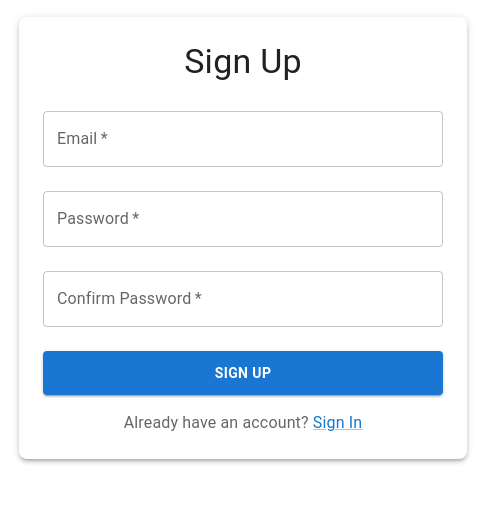
Authentication Flow › Sign Up › should show an error for mismatched passwords
Type "test.user@reqres.in" into the field labelled "Email *" at x=243, y=139, box [43,111,443,167]
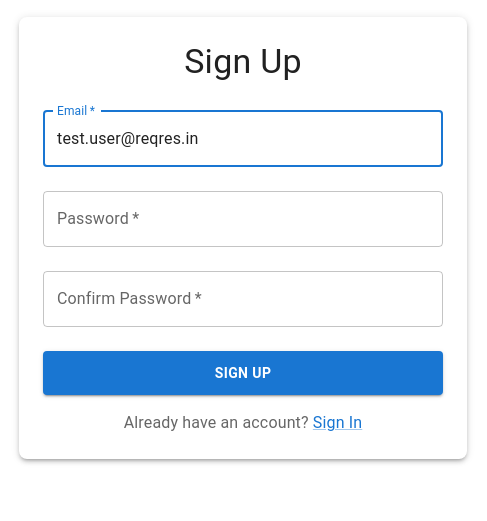
Type "password123" into the password field labelled "Password *" at x=243, y=219, box [43,191,443,247]
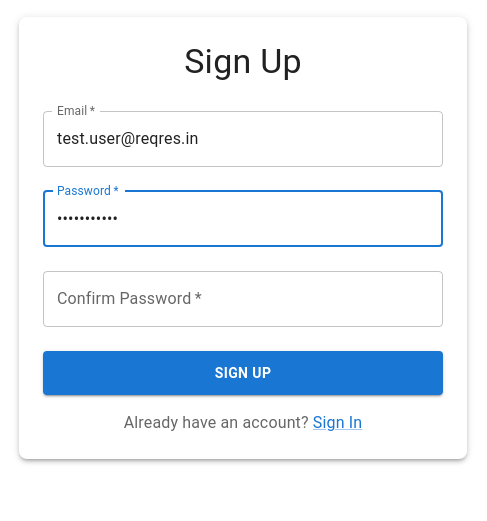
Type "password321" into the password field labelled "Confirm Password *" at x=243, y=299, box [43,271,443,327]
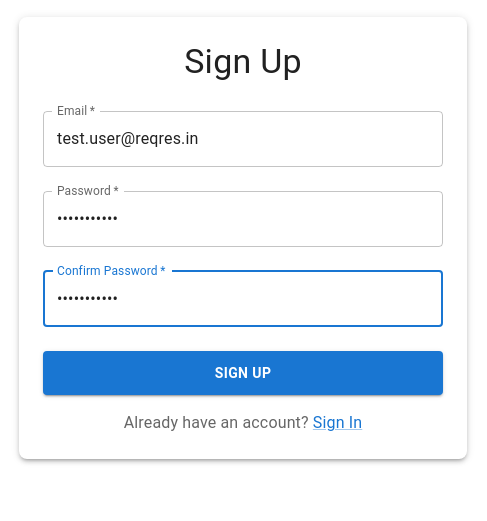
Click the submit button at x=243, y=374, box [43,351,443,396]
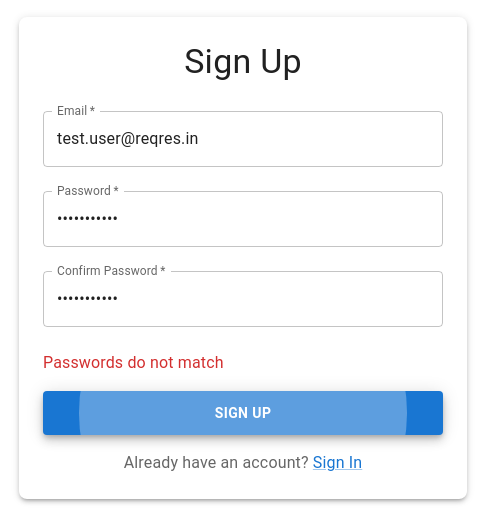
Expected: the text "Passwords do not match" is shown, [43,353,224,372]
